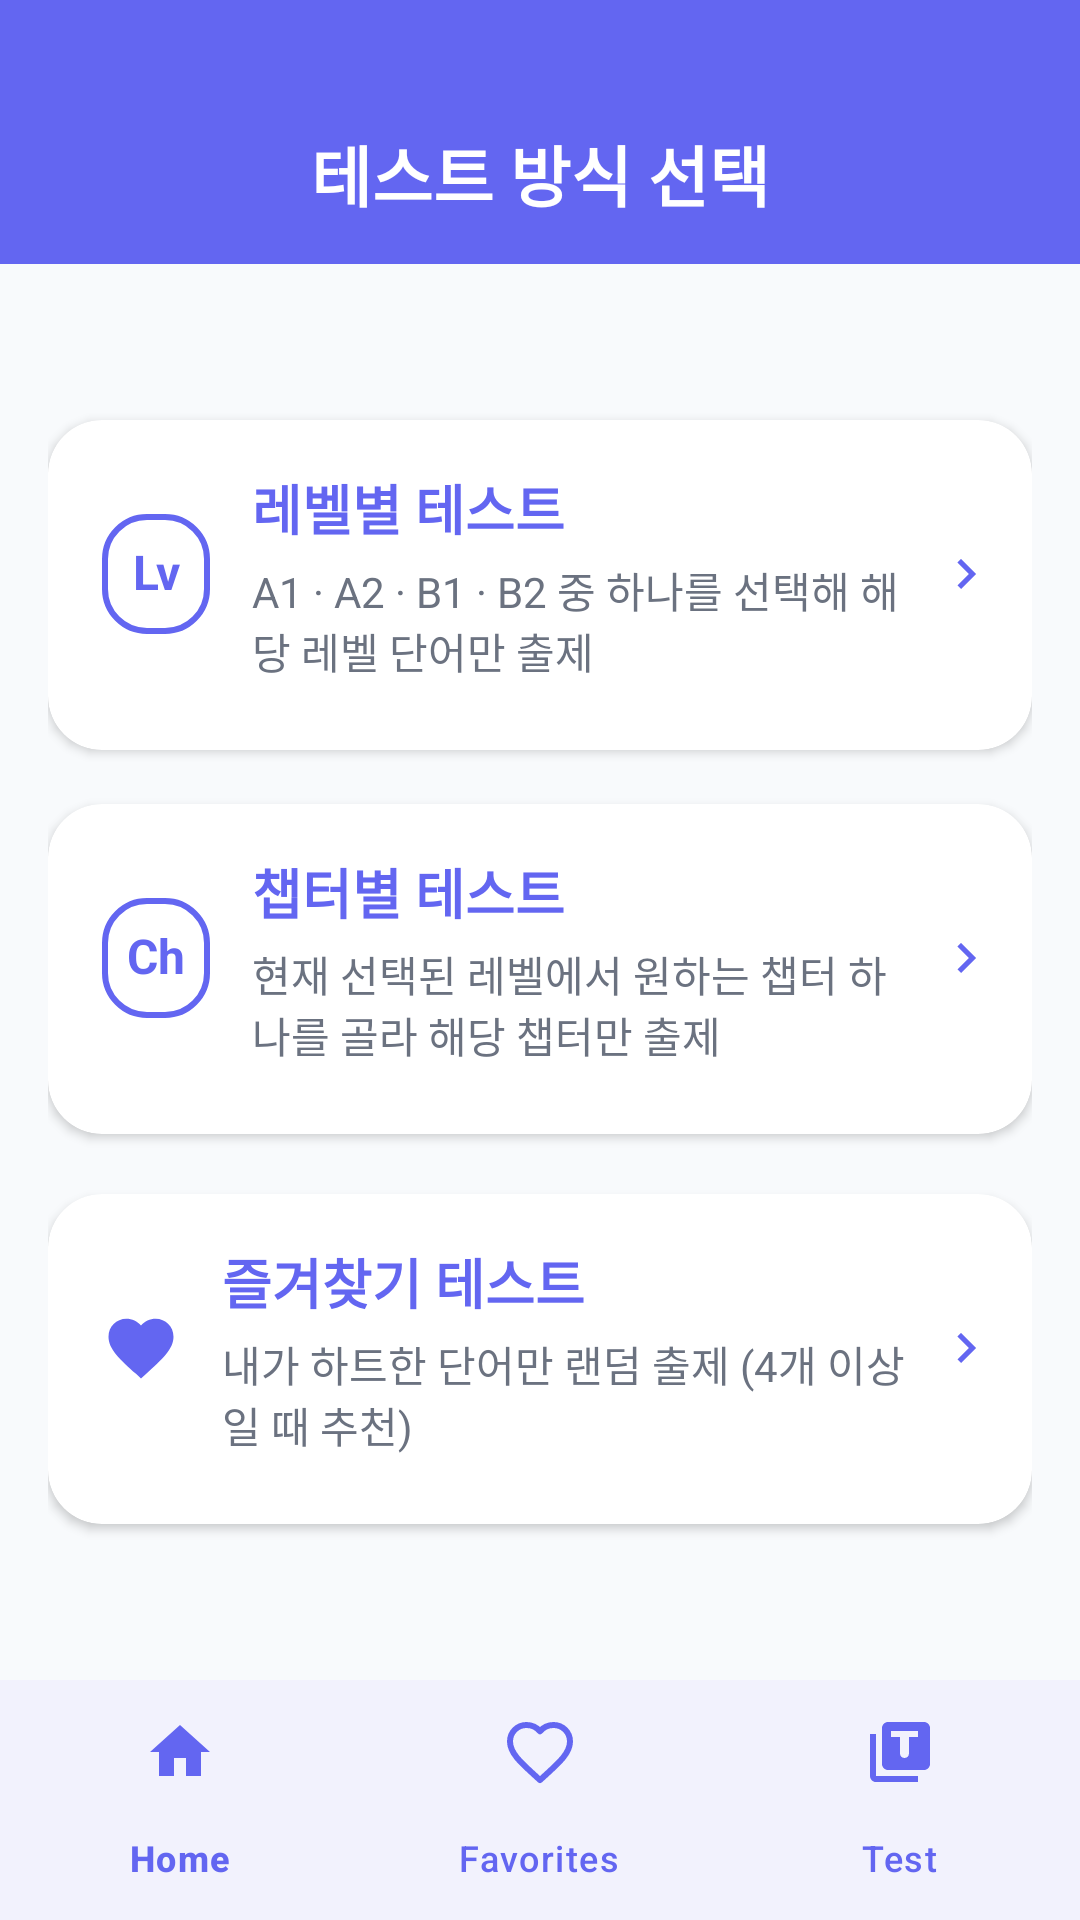

Where to tap for icons on this 1080×1920 app screen, as point (x, y):
chevron right: point (966, 574), point (966, 958), point (966, 1348)
favorite: point (141, 1348)
